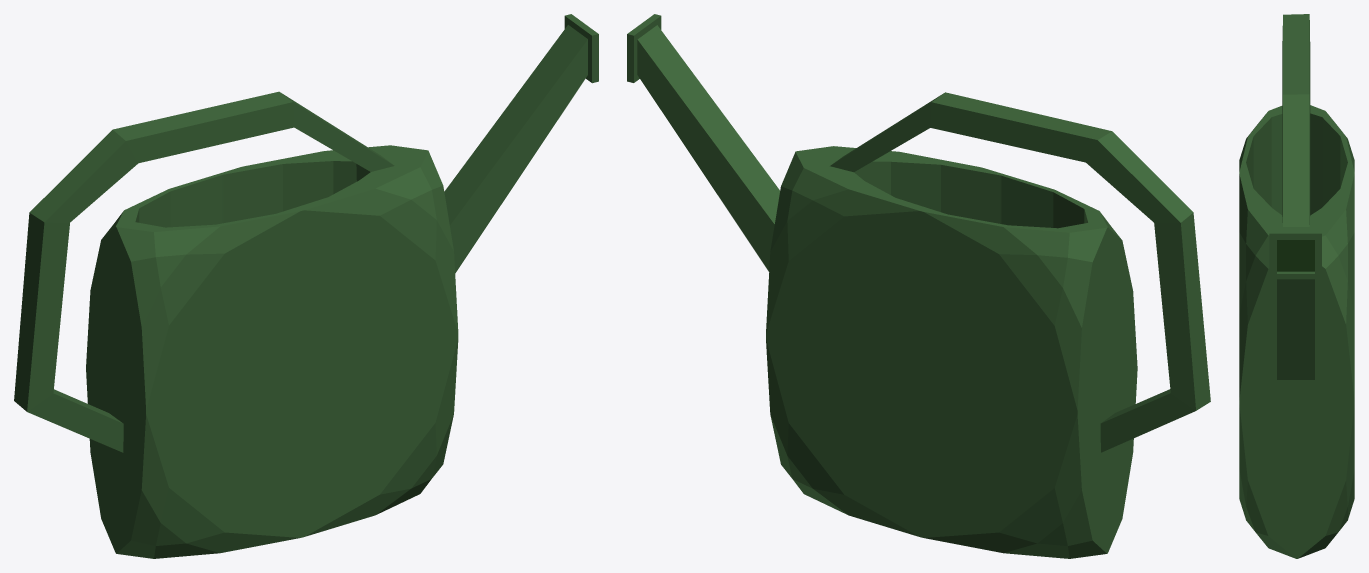
Rendered from gieter.fbx.
3 renders of one model, left to right at view 1: azimuth 30°, elevation 25°; view 2: azimuth 150°, elevation 25°; view 3: azimuth 270°, elevation 25°, orthographic. The views are drawn at different scales.
Visible parts, largest first — view 1: Cube; view 2: Cube; view 3: Cube.
Boxes of the visible parts, left/top/right/bottom form: Cube: left=14, top=14, right=598, bottom=558; Cube: left=627, top=14, right=1210, bottom=558; Cube: left=1239, top=14, right=1354, bottom=558.
Bounding box in the file's own units: 54.24 × 38.41 × 10.
